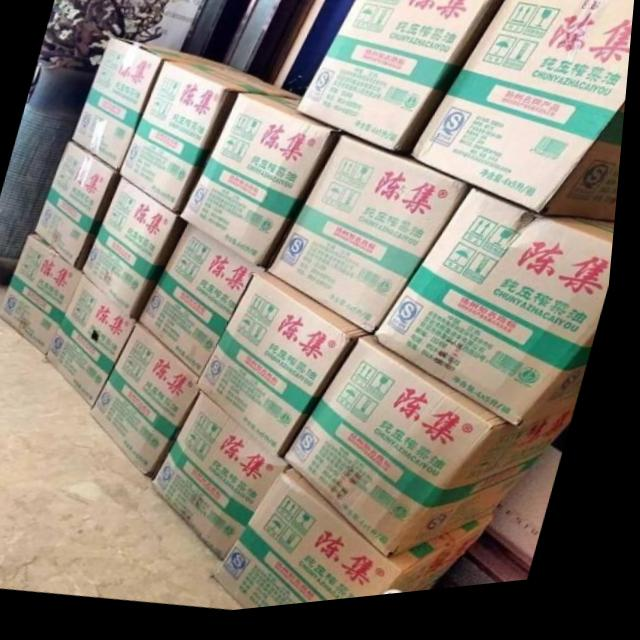box: (291, 345, 583, 566), (380, 197, 620, 438), (414, 0, 636, 235), (272, 141, 474, 342), (221, 478, 500, 615), (294, 0, 507, 164), (204, 278, 378, 465), (121, 63, 301, 219), (184, 99, 342, 276), (163, 396, 294, 567), (144, 227, 269, 381), (73, 41, 213, 175), (98, 326, 204, 481), (85, 181, 190, 323), (51, 276, 142, 410), (3, 231, 88, 356), (40, 141, 119, 275)
